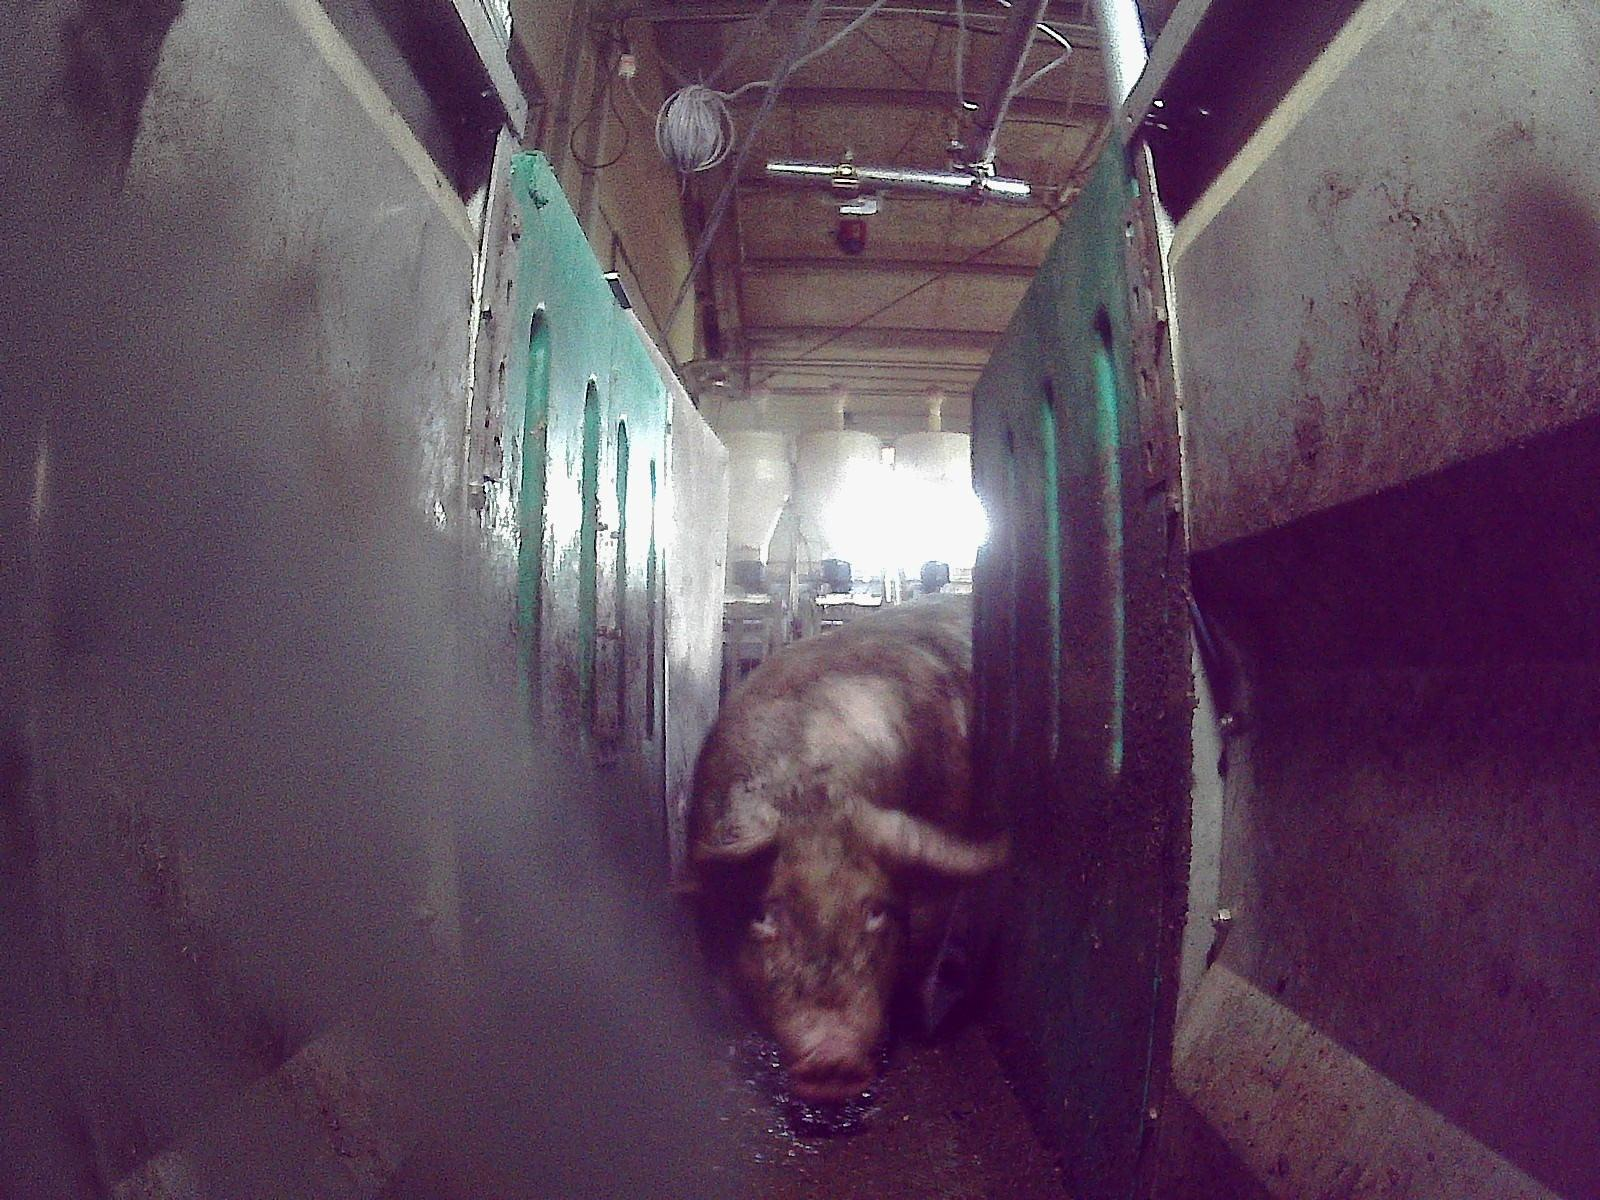Face: (712, 814, 912, 1091)
